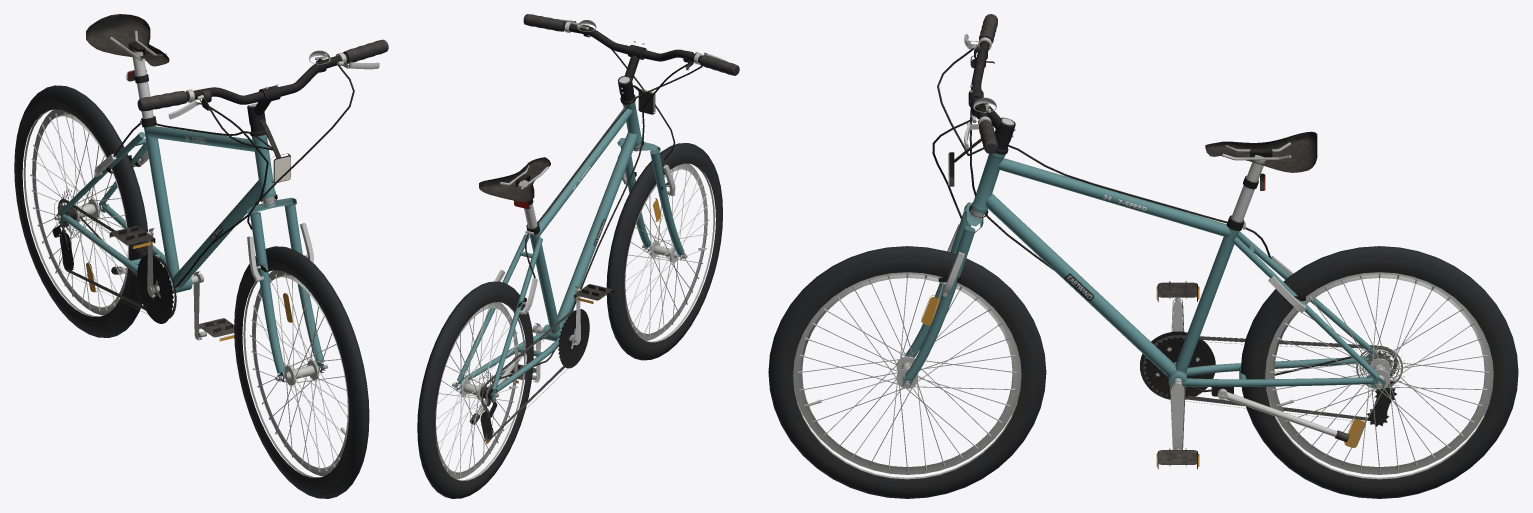
Rendered from bike.player.glb.
The picture shows the model from 3 angles, left to right: view 1: azimuth 30°, elevation 25°; view 2: azimuth 150°, elevation 25°; view 3: azimuth 270°, elevation 25°; orthographic projection. The views are drawn at different scales.
Visible parts, largest first — view 1: bike.player:wheel_front, bike.player:wheel_rear, bike.player:frame, bike.player:steer, bike.player:crank, bike.player:chain, bike.player:pedal_r, bike.player:pedal_l; view 2: bike.player:frame, bike.player:wheel_rear, bike.player:wheel_front, bike.player:steer, bike.player:crank, bike.player:chain, bike.player:pedal_r; view 3: bike.player:wheel_front, bike.player:wheel_rear, bike.player:frame, bike.player:steer, bike.player:crank, bike.player:chain, bike.player:kickstand.
Boxes of the visible parts, x1,y1,x2,y2 form: bike.player:wheel_front: (234,246,369,498); bike.player:wheel_rear: (14,85,148,337); bike.player:frame: (52,14,277,293); bike.player:steer: (137,39,388,382); bike.player:crank: (137,228,203,340); bike.player:chain: (54,199,176,318); bike.player:pedal_r: (109,226,155,248); bike.player:pedal_l: (198,318,234,341); bike.player:frame: (452,94,644,442); bike.player:wheel_rear: (417,281,533,498); bike.player:wheel_front: (606,143,722,360); bike.player:steer: (523,14,739,260); bike.player:crank: (532,286,589,382); bike.player:chain: (481,310,574,441); bike.player:pedal_r: (574,284,613,303); bike.player:wheel_front: (768,246,1046,498); bike.player:wheel_rear: (1240,246,1518,498); bike.player:frame: (968,131,1396,426); bike.player:steer: (901,14,1015,387); bike.player:crank: (1140,298,1215,449); bike.player:chain: (1143,335,1397,422); bike.player:kickstand: (1217,388,1349,442).
Size of what is drawn, in the model's own units: 0.6828 by 1.05 by 1.67.
Materials: 3 (3 with a texture image).
